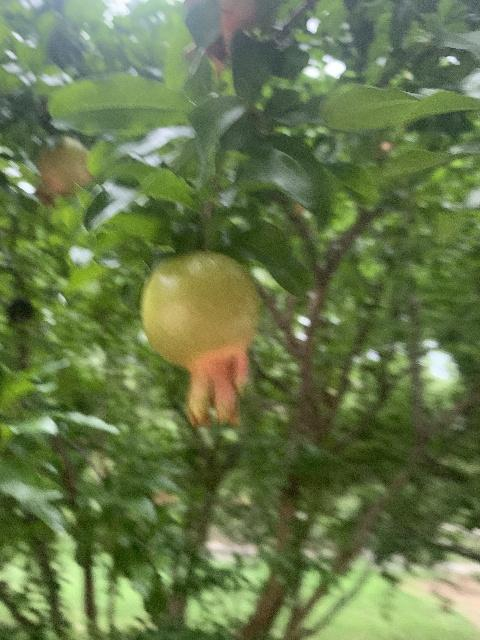mid-growth: (139, 249, 261, 430), (34, 136, 95, 210)
